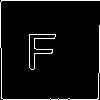F: (25, 24, 57, 70)
